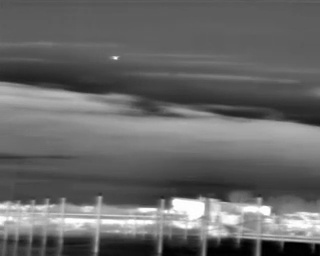BIRD: (109, 52, 122, 63)
